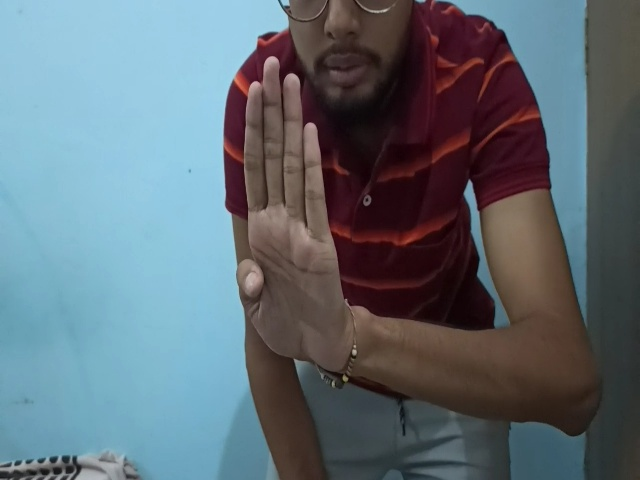B: (235, 55, 347, 369)
